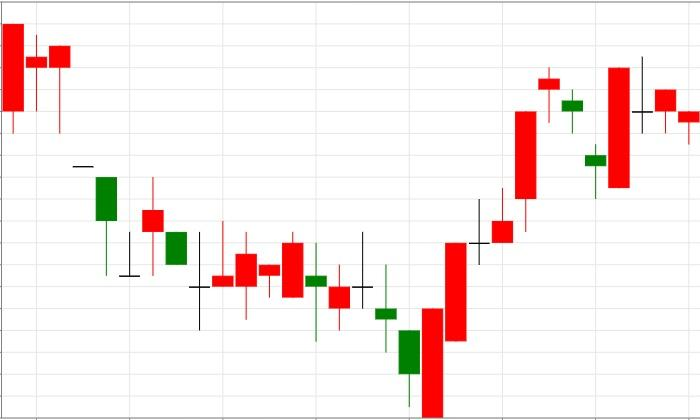bullish_engulfing_rise: (352, 231, 444, 419)
